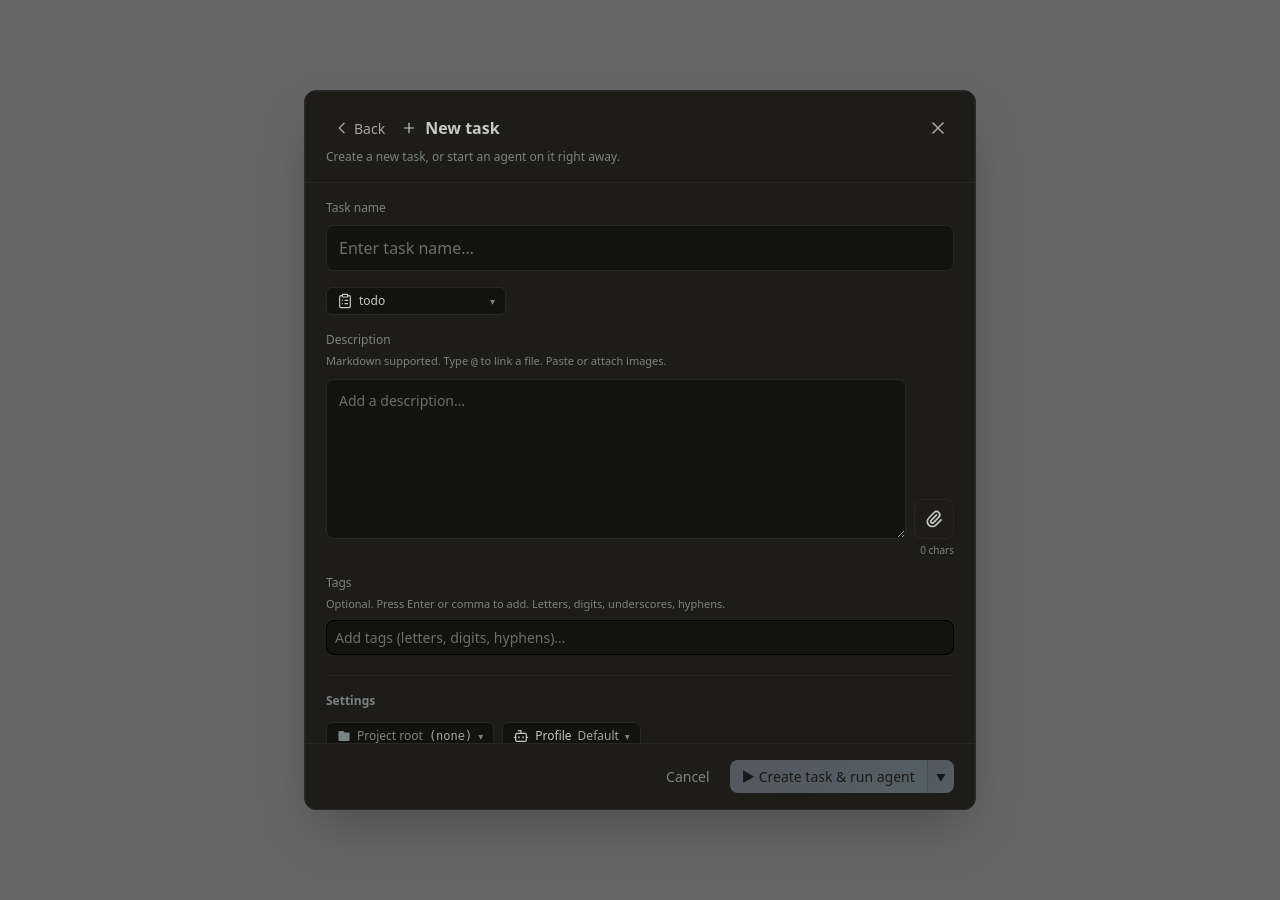
KanbanTaskDetailDialog — column dropdown (create mode) › create mode: single-column kanban — dropdown renders with the single item + checkmark
Click the button with test id "kanban-task-detail-column-picker" at (416, 301), box [326,287,506,315]
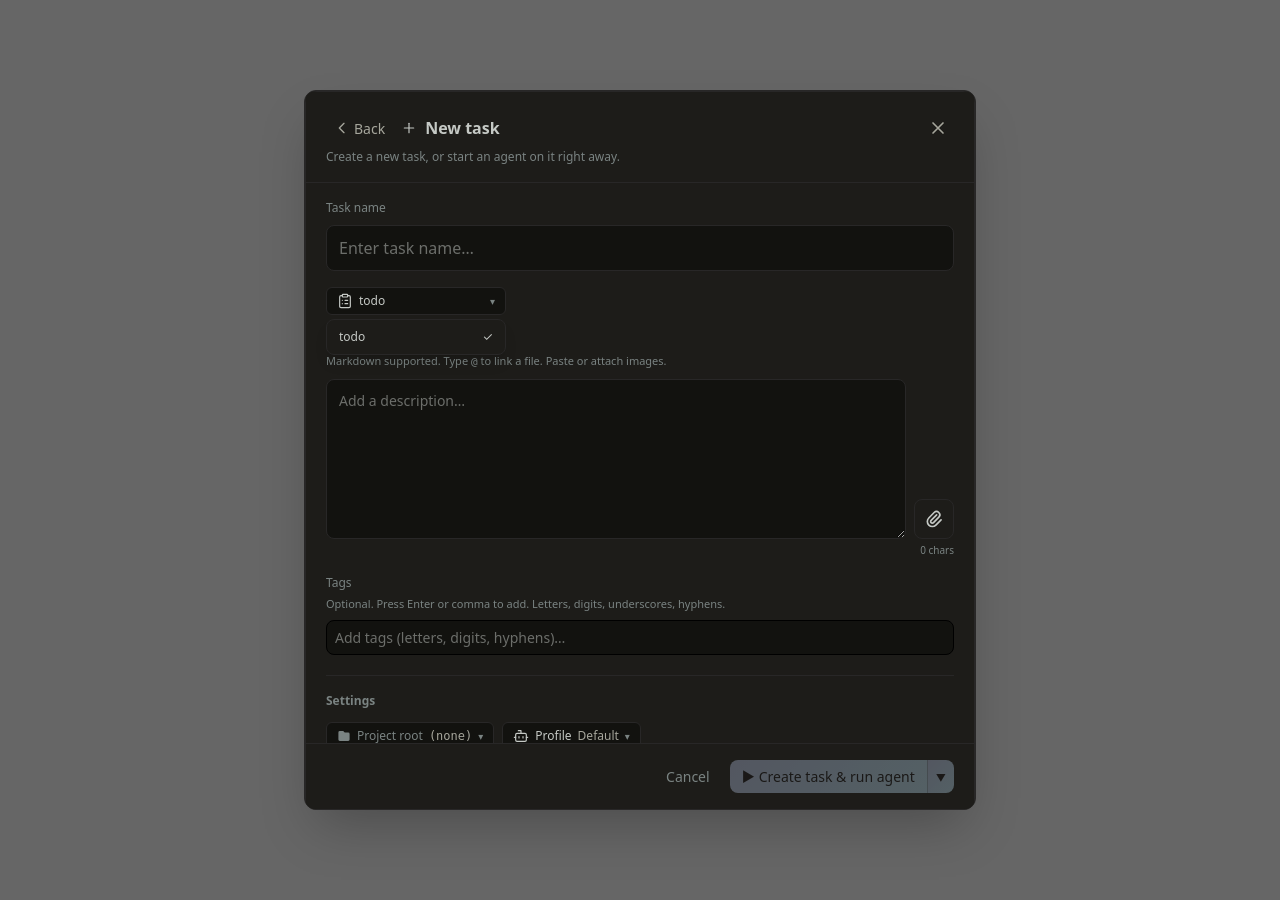
Check: the button with test id "kanban-task-detail-column-picker-item-col_x" shows "✓", box [327,320,505,354]
